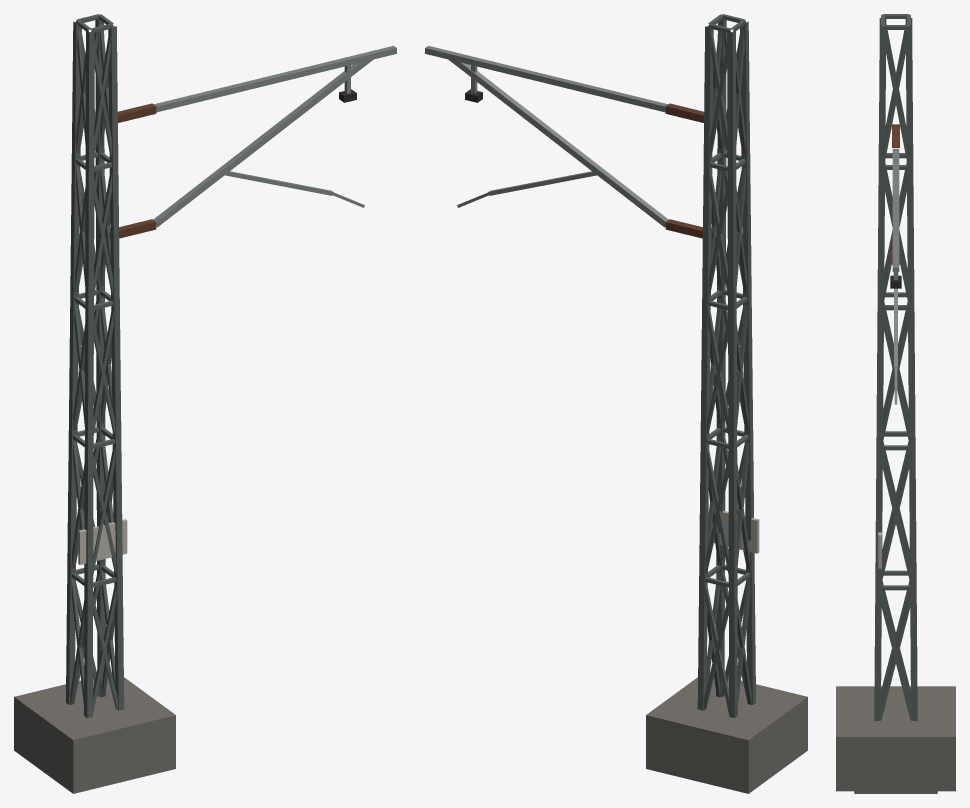
Rendered from catenary-mast-a.glb.
3 renders of one model, left to right at view 1: azimuth 30°, elevation 25°; view 2: azimuth 150°, elevation 25°; view 3: azimuth 270°, elevation 25°, orthographic.
Parts seen in each view (by area): view 1: catenary-mast-a; view 2: catenary-mast-a; view 3: catenary-mast-a.
Boxes of the visible parts, x1,y1,x2,y2 form: catenary-mast-a: (14, 14, 396, 793); catenary-mast-a: (425, 14, 807, 793); catenary-mast-a: (836, 14, 955, 793).
Bounding box in the file's own units: 4.45 × 9.02 × 1.3.
